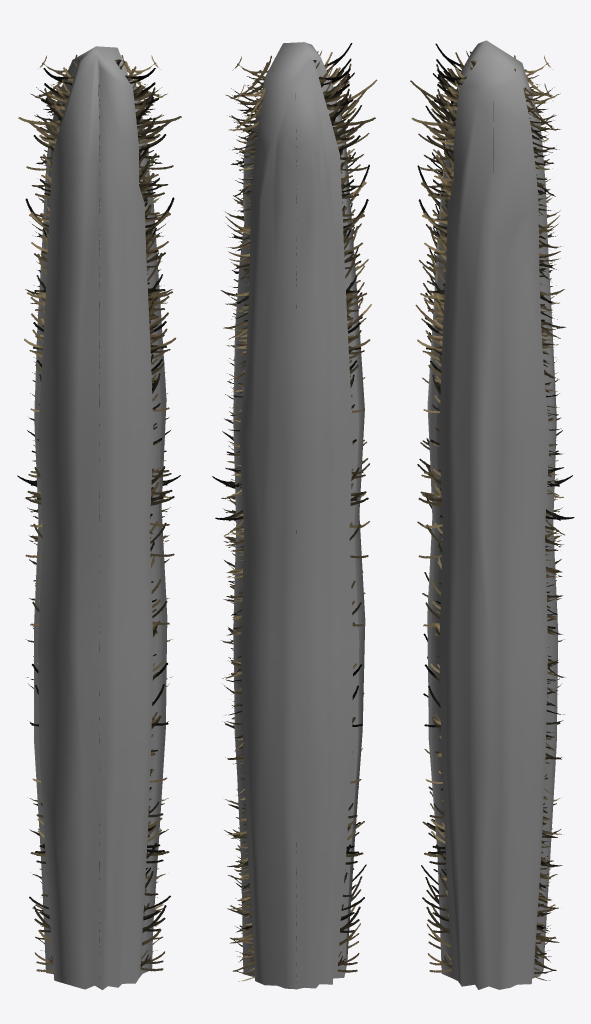
The model's file is sun_tset.fbx.
The picture shows the model from 3 angles, left to right: view 1: azimuth 30°, elevation 25°; view 2: azimuth 150°, elevation 25°; view 3: azimuth 270°, elevation 25°; orthographic projection.
Visible parts, largest first — view 1: L, Plane008; view 2: L, Plane008; view 3: L, Plane008.
Boxes of the visible parts, x1,y1,x2,y2 form: L: (34,46,167,989); Plane008: (17,54,181,987); L: (233,42,365,989); Plane008: (212,43,377,989); L: (427,40,558,989); Plane008: (410,43,574,980).
Bounding box in the file's own units: 63.06 × 333 × 54.94.
